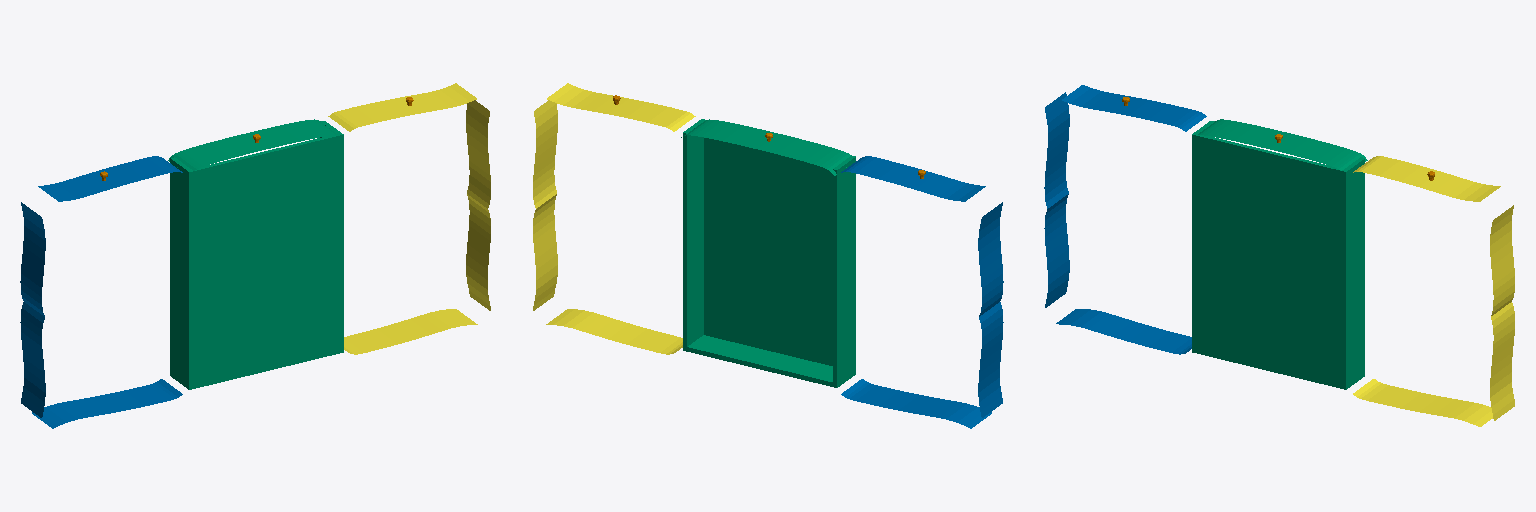
The robot description file, URDF, robot "455":
<robot name="455">


	<link name="0:virtual">
		<visual>
			<origin xyz="0.0 0.0 0.0" rpy="0 0 0"/>
			<geometry>
				<cylinder length="0" radius="0"/>
			</geometry>
		</visual>
	</link>


	<link name="1:static">
		<visual>
			<origin xyz="-0.0 -0.0 -0.0" rpy="0 0 0"/>
			<geometry>
				<mesh filename="../raw_data/455/part_meshes/1.dae" />
			</geometry>
		</visual>
	</link>


	<link name="2:drawer 1">
		<visual>
			<origin xyz="-0.0 -0.7074999809265137 -0.00781773030757904" rpy="0 0 0"/>
			<geometry>
				<mesh filename="../raw_data/455/part_meshes/2.dae" />
			</geometry>
		</visual>
	</link>


	<link name="3:drawer cabinet 1">
		<visual>
			<origin xyz="-0.43076652467604953 -0.7074999809265137 -0.00031844160197575097" rpy="0 0 0"/>
			<geometry>
				<mesh filename="../raw_data/455/part_meshes/3.dae" />
			</geometry>
		</visual>
	</link>


	<link name="4:drawer cabinet 3">
		<visual>
			<origin xyz="0.4311414957046509 -0.7074999809265137 -0.0" rpy="0 0 0"/>
			<geometry>
				<mesh filename="../raw_data/455/part_meshes/4.dae" />
			</geometry>
		</visual>
	</link>


	<joint name="0:virtual::1:static" type="fixed">
		<parent link="0:virtual"/>
		<child link="1:static"/>
		<origin xyz="0.0 0.0 0.0" rpy="0 0 0"/>
	</joint>


	<joint name="0:virtual::2:drawer 1_translation" type="prismatic">
		<parent link="0:virtual"/>
		<child link="2:drawer 1"/>
		<origin xyz="0.0 0.7074999809265137 0.00781773030757904" rpy="0 0 0"/>
		<limit lower="-0.0004029939174652" upper="0.507597006082535" effort="10" velocity="3"/>
		<axis xyz="0.0 0.0 1.0"/>
	</joint>


	<joint name="0:virtual::3:drawer cabinet 1_translation" type="prismatic">
		<parent link="0:virtual"/>
		<child link="3:drawer cabinet 1"/>
		<origin xyz="0.43076652467604953 0.7074999809265137 0.00031844160197575097" rpy="0 0 0"/>
		<limit lower="-0.0004029939174652" upper="0.535597006082535" effort="10" velocity="3"/>
		<axis xyz="-0.0029629879308582063 0.0 0.9999956103416262"/>
	</joint>


	<joint name="0:virtual::4:drawer cabinet 3_translation" type="prismatic">
		<parent link="0:virtual"/>
		<child link="4:drawer cabinet 3"/>
		<origin xyz="-0.4311414957046509 0.7074999809265137 0.0" rpy="0 0 0"/>
		<limit lower="-0.0004029939174652" upper="0.535597006082535" effort="10" velocity="3"/>
		<axis xyz="0.0 0.0 1.0"/>
	</joint>


</robot>

--- What the picture shows (computed from the rendered views, not written in the file) ---
Views: 3 orthographic renders of the robot side by side, from view 1: azimuth 30°, elevation 25°; view 2: azimuth 150°, elevation 25°; view 3: azimuth 330°, elevation 25°.
Robot: 455 — 5 links, 4 joints (3 prismatic, 1 fixed); root link 0:virtual; default pose: every joint at zero.
Visible links, largest first — view 1: 2:drawer 1, 4:drawer cabinet 3, 3:drawer cabinet 1; view 2: 2:drawer 1, 4:drawer cabinet 3, 3:drawer cabinet 1; view 3: 2:drawer 1, 3:drawer cabinet 1, 4:drawer cabinet 3.
Link boxes in pixels (x1,y1,x2,y2): 2:drawer 1: [168, 119, 343, 389]; 4:drawer cabinet 3: [20, 156, 182, 428]; 3:drawer cabinet 1: [328, 83, 490, 354]; 2:drawer 1: [681, 119, 855, 387]; 4:drawer cabinet 3: [841, 156, 1003, 428]; 3:drawer cabinet 1: [533, 83, 695, 354]; 2:drawer 1: [1192, 119, 1367, 389]; 3:drawer cabinet 1: [1353, 156, 1514, 426]; 4:drawer cabinet 3: [1044, 85, 1206, 354].
Size in the robot's own frame: 1.26 by 0.76 by 0.628 metres.
3 mesh visuals loaded from 4 distinct referenced files (3 Collada DAE); not drawn: 1 (reference not matched to a file when rendering).